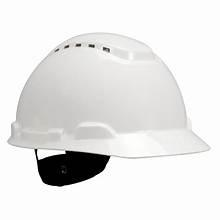Helmet: (7, 29, 214, 190)
